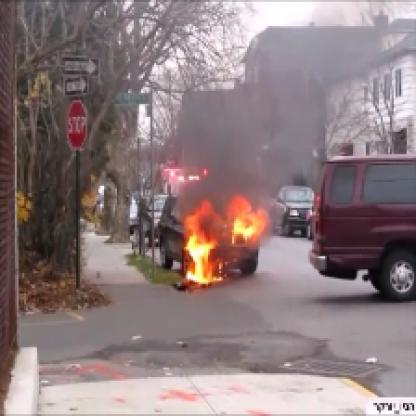Fire: (163, 180, 264, 288)
